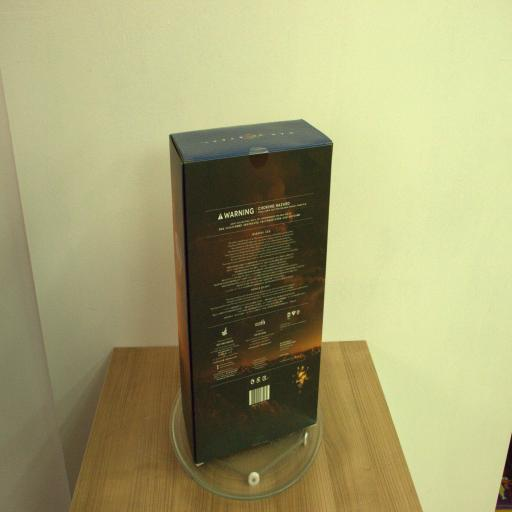superman: (169, 122, 332, 466)
